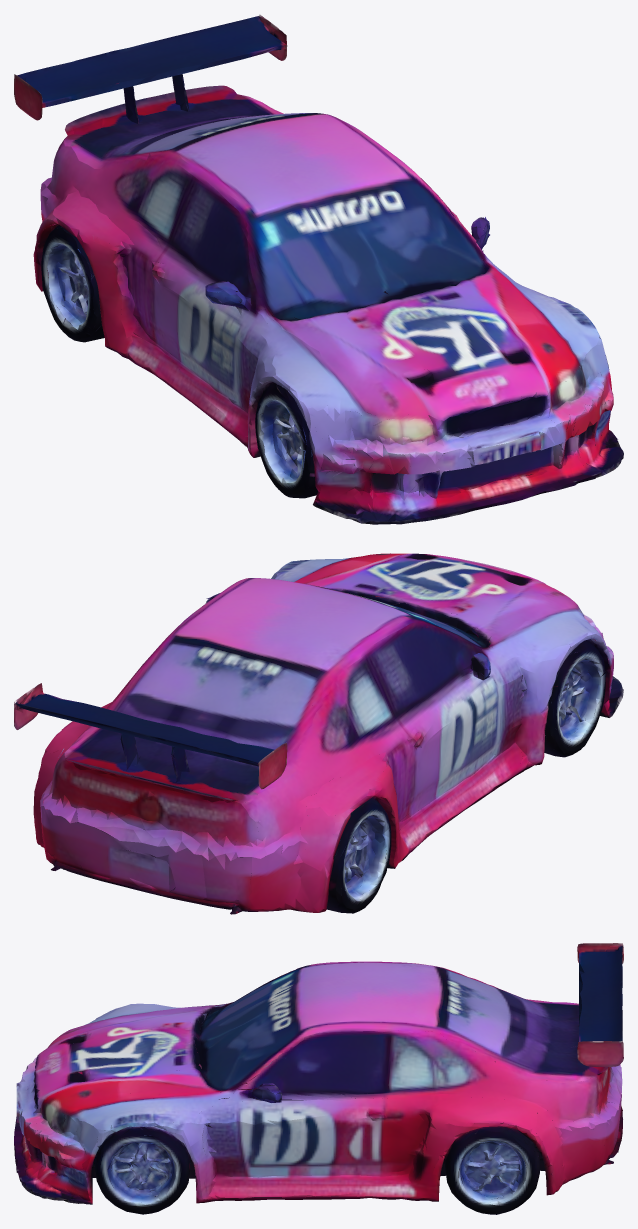
The model's file is v8supercar2.glb.
3 renders of one model, top to bottom at view 1: azimuth 30°, elevation 25°; view 2: azimuth 150°, elevation 25°; view 3: azimuth 270°, elevation 25°, orthographic. The views are drawn at different scales.
Visible parts, largest first — view 1: body, panel_bumper_f, wheel_front_L, panel_trunk, panel_door_L, wheel_rear_L, wheel_front_R, panel_roof, panel_bumper_r; view 2: body, panel_trunk, panel_bumper_r, wheel_rear_L, wheel_front_L, panel_door_L, panel_hood, wheel_rear_R, panel_bumper_f, panel_roof; view 3: body, panel_trunk, panel_door_R, wheel_front_R, wheel_rear_R, panel_bumper_f, panel_bumper_r, panel_hood, panel_roof.
Part boxes in pixels (box(x1,y1,x2,y2)): body: box(40, 85, 610, 524); panel_bumper_f: box(253, 329, 610, 496); wheel_front_L: box(155, 375, 439, 524); panel_trunk: box(14, 14, 462, 281); panel_door_L: box(81, 236, 247, 442); wheel_rear_L: box(33, 193, 191, 402); wheel_front_R: box(499, 355, 623, 484); panel_roof: box(205, 197, 489, 315); panel_bumper_r: box(36, 177, 95, 280); body: box(48, 553, 616, 912); panel_trunk: box(14, 628, 395, 845); panel_bumper_r: box(38, 728, 388, 910); wheel_rear_L: box(203, 794, 464, 914); wheel_front_L: box(431, 615, 623, 834); panel_door_L: box(376, 727, 528, 862); panel_hood: box(279, 568, 588, 695); wheel_rear_R: box(33, 748, 144, 870); panel_bumper_f: box(441, 606, 607, 690); panel_roof: box(205, 593, 490, 684); body: box(14, 961, 622, 1204); panel_trunk: box(246, 943, 623, 1141); panel_door_R: box(198, 1097, 482, 1200); wheel_front_R: box(16, 1119, 411, 1214); wheel_rear_R: box(328, 1112, 617, 1214); panel_bumper_f: box(16, 1018, 199, 1159); panel_bumper_r: box(454, 1065, 622, 1165); panel_hood: box(68, 1002, 256, 1139); panel_roof: box(242, 1047, 354, 1102).
Bounding box in the file's own units: 1.87 × 1.22 × 4.
1 material, 1 textured.
